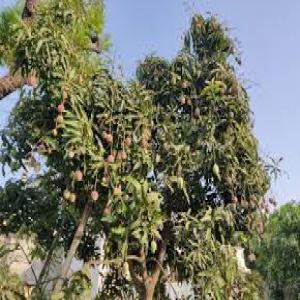Tree: (18, 0, 264, 295)
